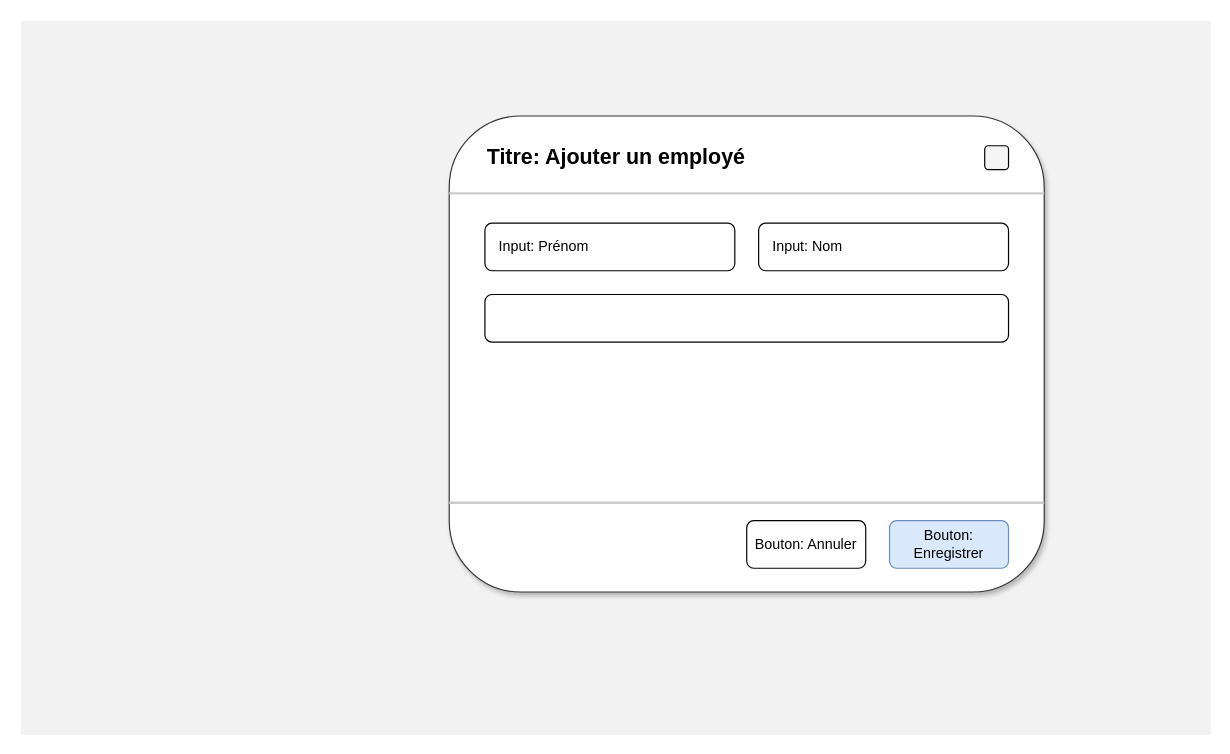
The diagram is 1230 pixels wide and 754 high, and some of its shapes have lost their labels. Each missing label, with the centre of its shape:
"Dropdown: Établissement (Choisir ou créer...)" belongs at pixel 746 317.
"X (Fermer)" belongs at pixel 996 157.
